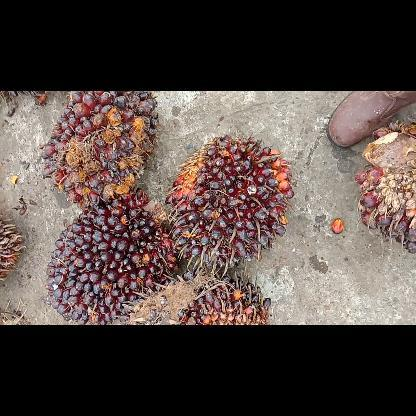Kurang masak: (164, 132, 298, 274), (42, 188, 180, 324), (36, 90, 162, 209), (117, 268, 271, 324)
